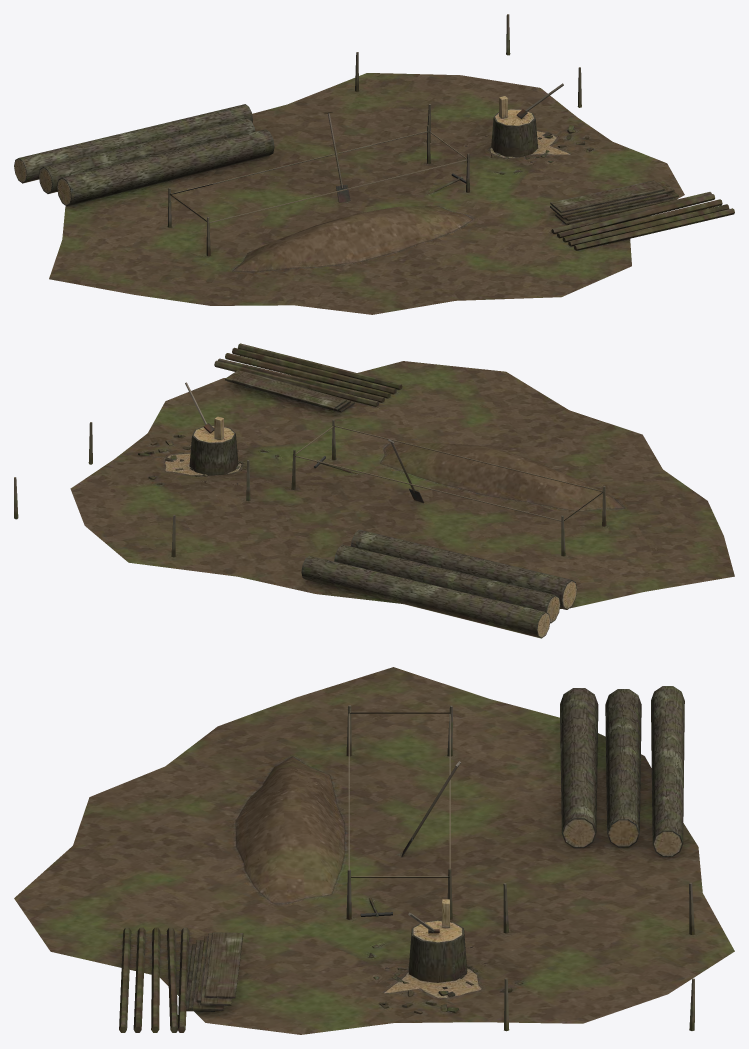
Rendered from lumber_camp_build1.glb.
3 renders of one model, top to bottom at view 1: azimuth 30°, elevation 25°; view 2: azimuth 150°, elevation 25°; view 3: azimuth 270°, elevation 25°, orthographic. The views are drawn at different scales.
Parts seen in each view (by area): view 1: lumber_camp_build1_LOD0; view 2: lumber_camp_build1_LOD0; view 3: lumber_camp_build1_LOD0.
Part boxes in pixels (<box>): lumber_camp_build1_LOD0: <box>14,14,734,314</box>; lumber_camp_build1_LOD0: <box>14,343,734,638</box>; lumber_camp_build1_LOD0: <box>14,667,734,1034</box>.
Size of what is drawn, in the model's own units: 10.79 by 1.32 by 8.94.
1 material, 1 textured.
